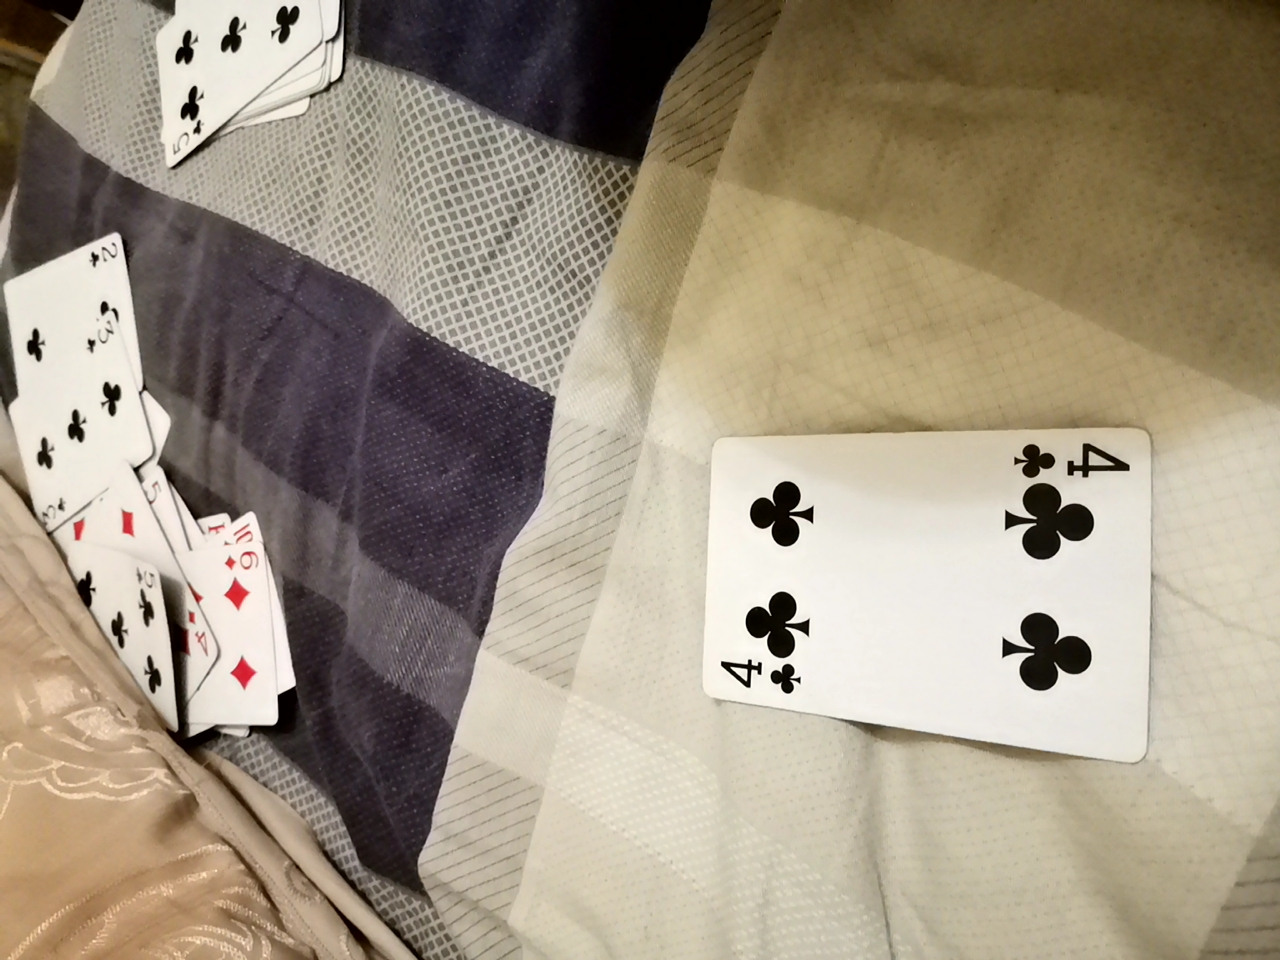mh 4: (686, 430, 1167, 779)
